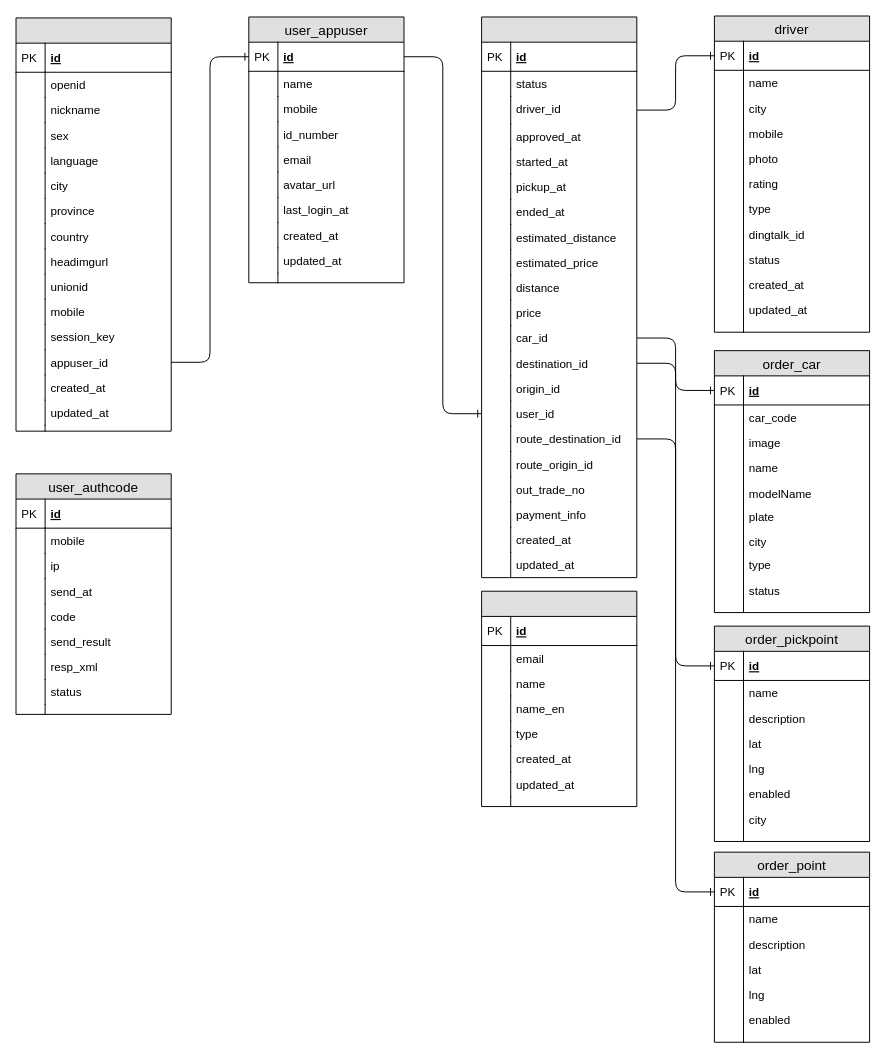
This 886x1058 diagram has some shape labels left out. The shapes that lost their labels are listed below. From the top down, each one's box as (x1, y1, x2, y2) in pixels, then its label:
(15, 17, 171, 431): user_wechatuser
(481, 16, 637, 578): order_order
(481, 590, 637, 807): account
